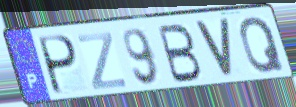9: (122, 27, 162, 87)
B: (156, 22, 204, 85)
P: (38, 33, 80, 97)
Q: (238, 15, 287, 75)
V: (192, 18, 235, 80)
Z: (76, 30, 129, 92)
